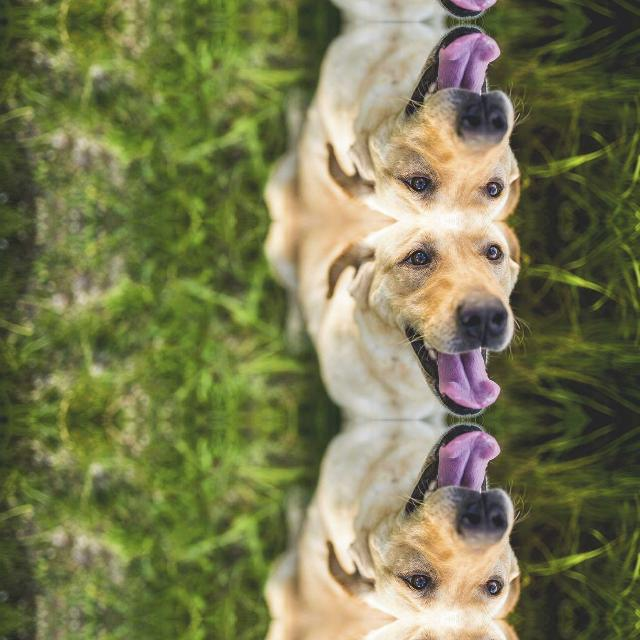dog: (348, 221, 544, 419), (348, 21, 544, 219), (348, 419, 544, 617), (348, 0, 544, 21), (348, 620, 544, 640)
